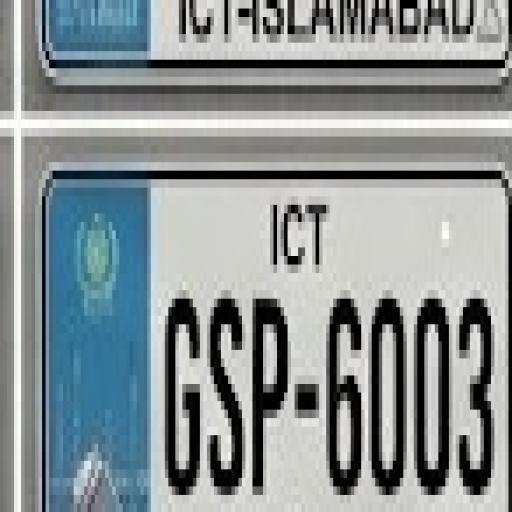0: (411, 297, 451, 498), (369, 298, 405, 494)
3: (458, 287, 495, 498)
6: (322, 300, 366, 499)
G: (166, 289, 200, 498)
P: (246, 290, 289, 512)
S: (205, 281, 245, 500)
